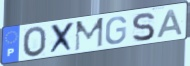A: (155, 8, 184, 40)
G: (105, 15, 129, 46)
M: (74, 16, 106, 52)
O: (22, 26, 48, 59)
S: (131, 11, 156, 43)
X: (49, 20, 77, 56)
